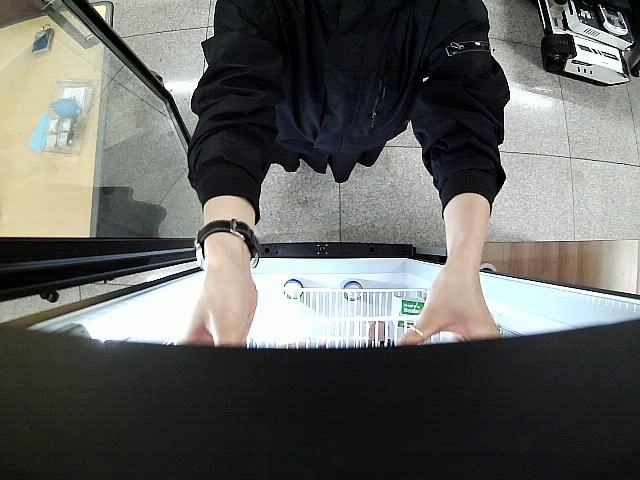00_hand: (395, 273, 503, 349)
